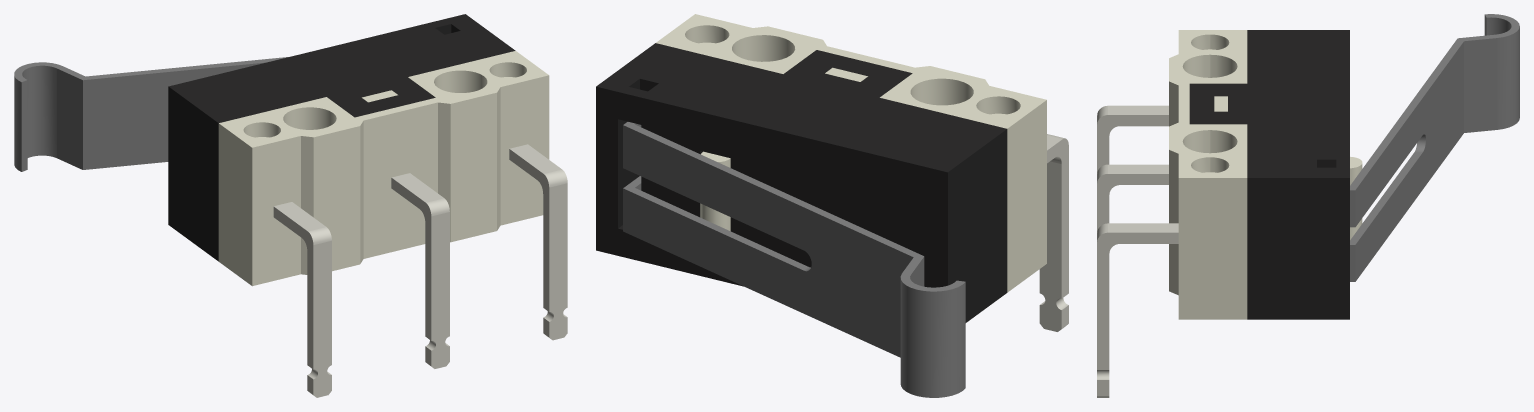
Rendered from kc-sw_xkb_dm1-16ud-1.glb.
The picture shows the model from 3 angles, left to right: view 1: azimuth 30°, elevation 25°; view 2: azimuth 150°, elevation 25°; view 3: azimuth 270°, elevation 25°; orthographic projection. The views are drawn at different scales.
Parts seen in each view (by area): view 1: 0.75_0.75_0.6666666666666666_0, 0_0_0_0, 0.25_0.25_0.25_0, 0.6666666666666666_0.6666666666666666_0.5833333333333334_0.8; view 2: 0_0_0_0, 0.25_0.25_0.25_0, 0.75_0.75_0.6666666666666666_0, 0.6666666666666666_0.6666666666666666_0.5833333333333334_0.8; view 3: 0_0_0_0, 0.75_0.75_0.6666666666666666_0, 0.25_0.25_0.25_0, 0.6666666666666666_0.6666666666666666_0.5833333333333334_0.8.
Boxes of the visible parts, x1,y1,x2,y2 form: 0.75_0.75_0.6666666666666666_0: (218,51,549,286); 0_0_0_0: (168,14,515,261); 0.25_0.25_0.25_0: (14,57,288,171); 0.6666666666666666_0.6666666666666666_0.5833333333333334_0.8: (273,144,567,397); 0_0_0_0: (596,43,1007,322); 0.25_0.25_0.25_0: (623,122,965,397); 0.75_0.75_0.6666666666666666_0: (656,14,1046,292); 0.6666666666666666_0.6666666666666666_0.5833333333333334_0.8: (1039,134,1068,331); 0_0_0_0: (1189,30,1349,319); 0.75_0.75_0.6666666666666666_0: (1169,30,1362,319); 0.25_0.25_0.25_0: (1350,14,1519,281); 0.6666666666666666_0.6666666666666666_0.5833333333333334_0.8: (1097,105,1178,397).
Size of the model in its own units: 1.63 by 0.935 by 1.54.
